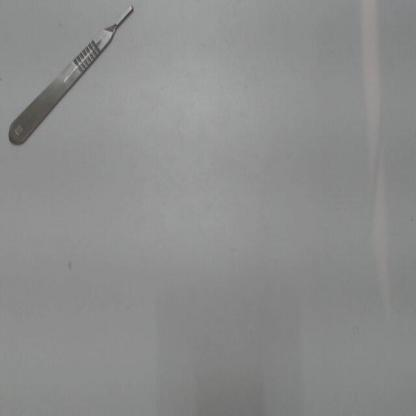No.3 BP Handle: (5, 2, 148, 152)
